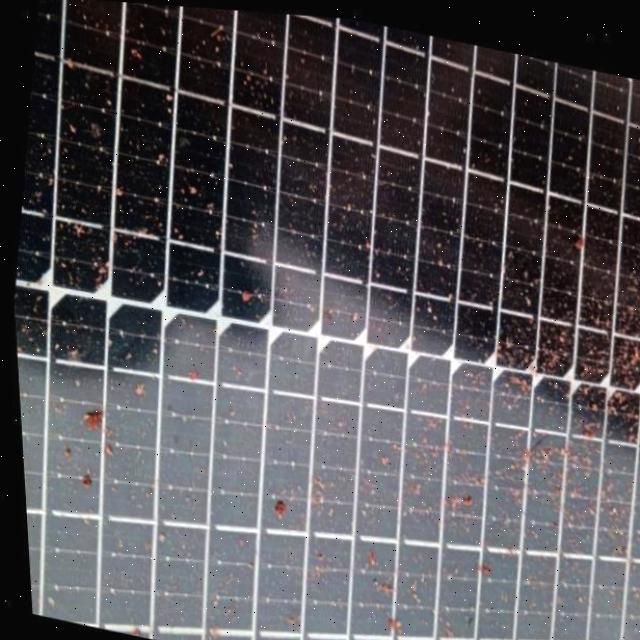Surface Contaminant: (10, 0, 609, 558)
